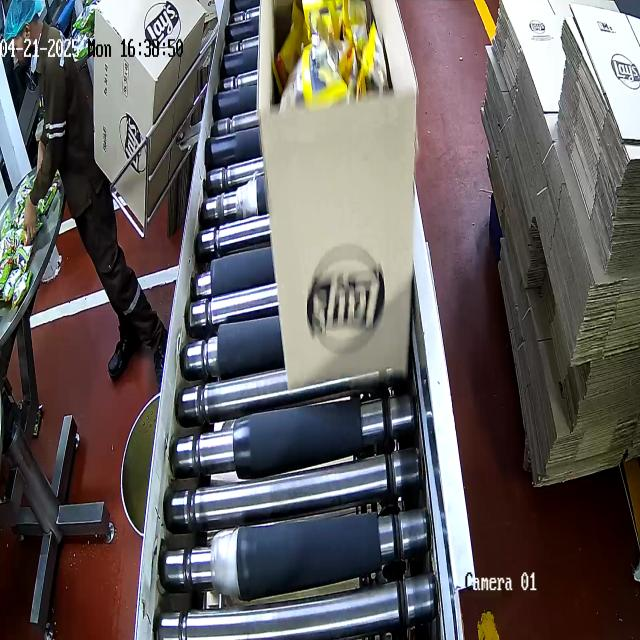SALTED: (271, 0, 408, 92)
